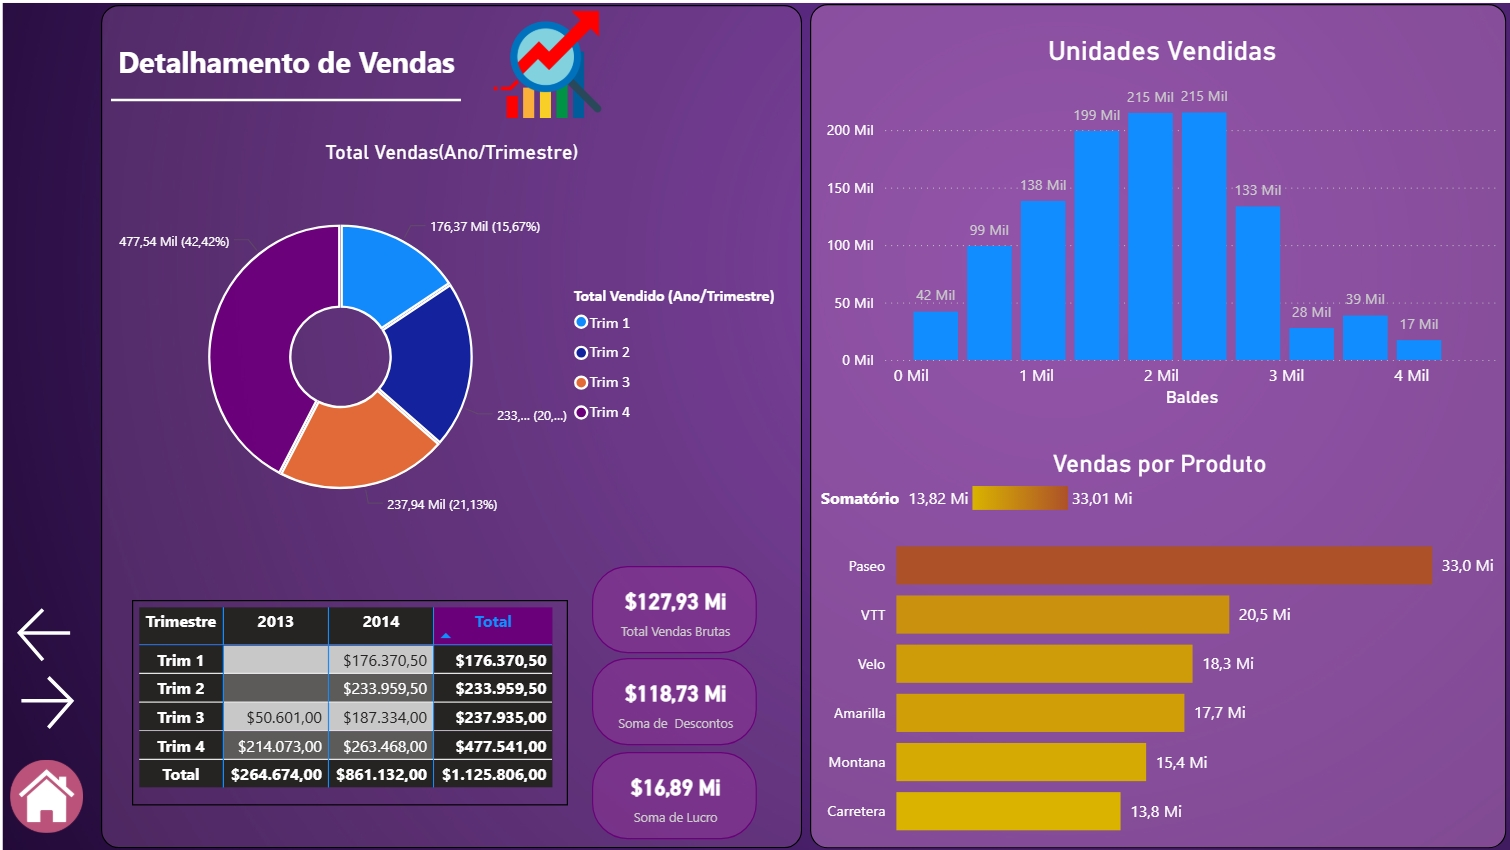

This screenshot's page, from the dashboard's own definition file:
{"tool":"powerbi","page":{"name":"DV_03","canvas":[1280,720],"ordinal":3},"visuals":[{"type":"image","title":"fundo_purple","box":[0,0,1280.2,720],"z":0},{"type":"shape","box":[91,7,587,706],"z":1000},{"type":"clusteredColumnChart","title":"Unidades Vendidas","fields":{"Category":["financials.Buckets"],"Y":["Sum(financials.Units Sold)"]},"box":[692.8,32,573.2,316],"z":1000,"group":"g1"},{"type":"shape","box":[685,6,583,707],"z":2000},{"type":"actionButton","title":"Botão - Next","box":[17.2,562.2,58,56.2],"z":3000},{"type":"clusteredBarChart","title":"Vendas por Produto","fields":{"Y":["Sum(financials. Sales)"],"Category":["financials.Product"]},"box":[689,378,577,342],"z":4000},{"type":"group","id":"g1","title":"Sales x Segmento","box":[689,0,577,348],"z":5000},{"type":"image","box":[412.2,0,109.5,112.9],"z":6000},{"type":"textbox","box":[100,32.5,312.1,70.1],"z":7000},{"type":"card","fields":{"Values":["Sum(financials.Gross Sales)"]},"box":[502,476,138,73],"z":8000},{"type":"image","box":[9.1,633.9,73.5,70.7],"z":9000},{"type":"shape","box":[100,45,293,82],"z":10000},{"type":"actionButton","box":[16.2,505.4,66.4,56.6],"z":11000},{"type":"donutChart","title":"Total Vendas(Ano/Trimestre)","fields":{"Category":["financials.Date.Variation.Hierarquia de datas.Trimestre"],"Y":["financials.total de vendidos"]},"box":[91,120,587,344],"z":12000},{"type":"pivotTable","fields":{"Values":["financials.total de vendidos"],"Columns":["financials.Date.Variation.Hierarquia de datas.Ano","financials.Date.Variation.Hierarquia de datas.Trimestre"],"Rows":["financials.Date.Variation.Hierarquia de datas.Trimestre"]},"box":[117,505,365,172],"z":13000},{"type":"card","fields":{"Values":["Sum(financials. Sales)"]},"box":[502,553,138,73],"z":14000},{"type":"card","fields":{"Values":["Sum(financials.Profit)"]},"box":[502,632,138,73],"z":15000}]}

Visuals, with their boxes in screenshot pixels (x1, y1, x2, y2), scaled from the page's 1280x720 canvas onto the 1510x850 screenshot:
"fundo_purple" image: [0, 0, 1509, 849]
shape: [107, 8, 800, 842]
"Unidades Vendidas" clusteredColumnChart: [817, 38, 1493, 411]
shape: [808, 7, 1496, 842]
"Botão - Next" actionButton: [20, 664, 89, 730]
"Vendas por Produto" clusteredBarChart: [813, 446, 1493, 849]
"Sales x Segmento" group: [813, 0, 1493, 411]
image: [486, 0, 615, 133]
textbox: [118, 38, 486, 121]
card - Sum(financials.Gross Sales): [592, 562, 755, 648]
image: [11, 748, 97, 832]
shape: [118, 53, 464, 150]
actionButton: [19, 597, 97, 663]
"Total Vendas(Ano/Trimestre)" donutChart: [107, 142, 800, 548]
pivotTable - financials.total de vendidos x financials.Date.Variation.Hierarquia de datas.Ano: [138, 596, 569, 799]
card - Sum(financials. Sales): [592, 653, 755, 739]
card - Sum(financials.Profit): [592, 746, 755, 832]
